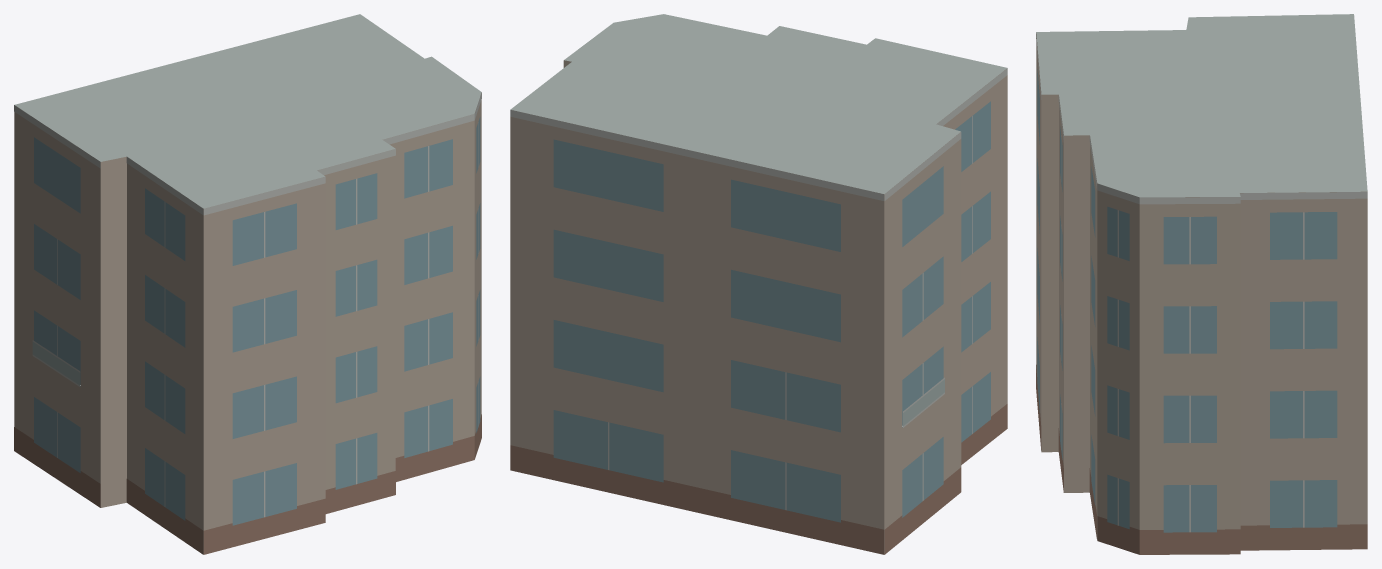
Rendered from survey-upis-32932301.glb.
3 views of the same model, side by side, from view 1: azimuth 30°, elevation 25°; view 2: azimuth 150°, elevation 25°; view 3: azimuth 270°, elevation 25° (orthographic). The views are drawn at different scales.
Parts seen in each view (by area): view 1: survey-upis-32932301.tmp; view 2: survey-upis-32932301.tmp; view 3: survey-upis-32932301.tmp.
Part boxes in pixels (box(x1,y1,x2,y2)): survey-upis-32932301.tmp: box(14, 14, 481, 554); survey-upis-32932301.tmp: box(510, 14, 1007, 554); survey-upis-32932301.tmp: box(1036, 14, 1367, 554).
Size of the model in its own units: 13.76 by 12.5 by 10.51.
